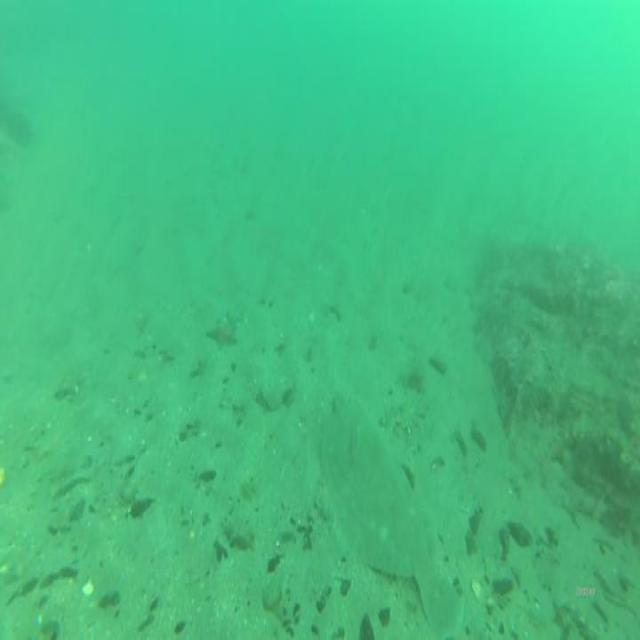starfish: (208, 319, 237, 351)
